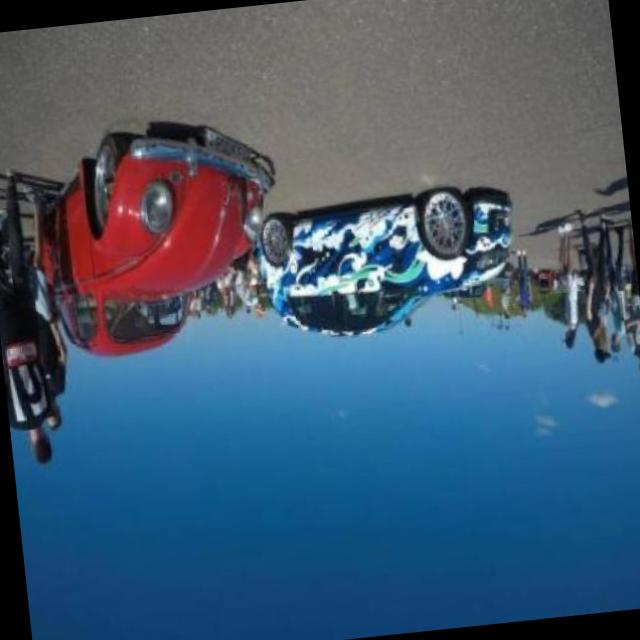car: (31, 130, 288, 360), (256, 199, 509, 348)
